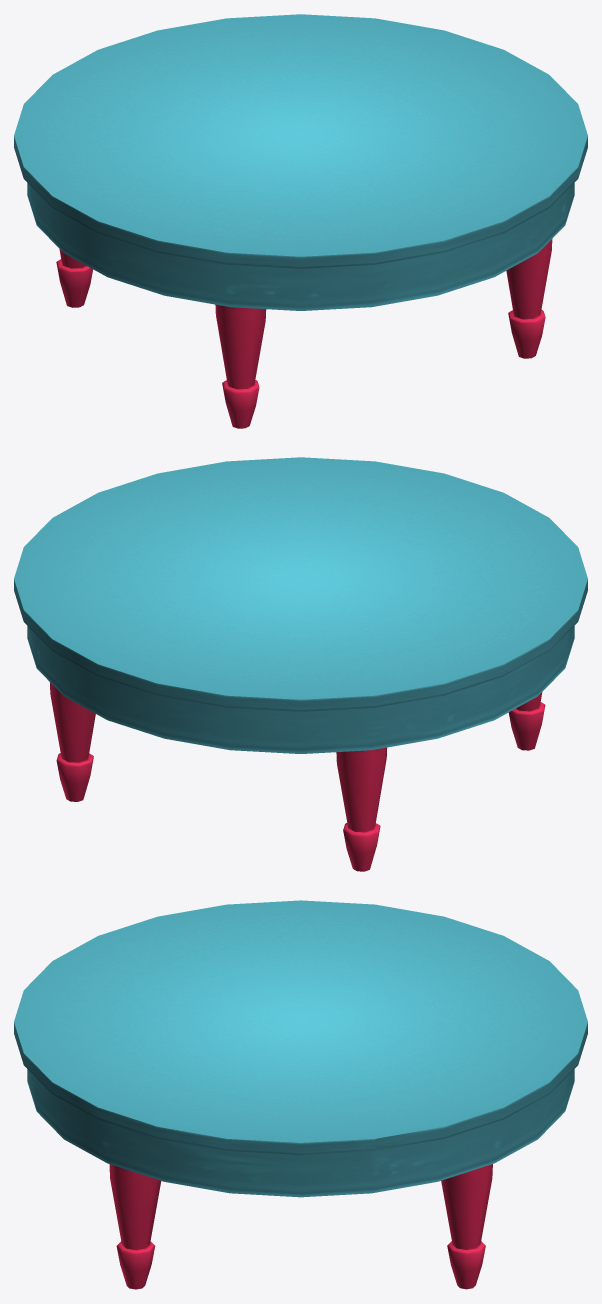
File: coffeetable.FBX
3 views of the same model, one above another, from view 1: azimuth 30°, elevation 25°; view 2: azimuth 150°, elevation 25°; view 3: azimuth 270°, elevation 25° (orthographic).
Parts seen in each view (by area): view 1: coffeetable; view 2: coffeetable; view 3: coffeetable.
Boxes of the visible parts, x1,y1,x2,y2 form: coffeetable: [14, 14, 587, 428]; coffeetable: [14, 457, 587, 871]; coffeetable: [14, 900, 587, 1289].
Size of the model in its own units: 0.0257 by 0.0257 by 0.00957.
